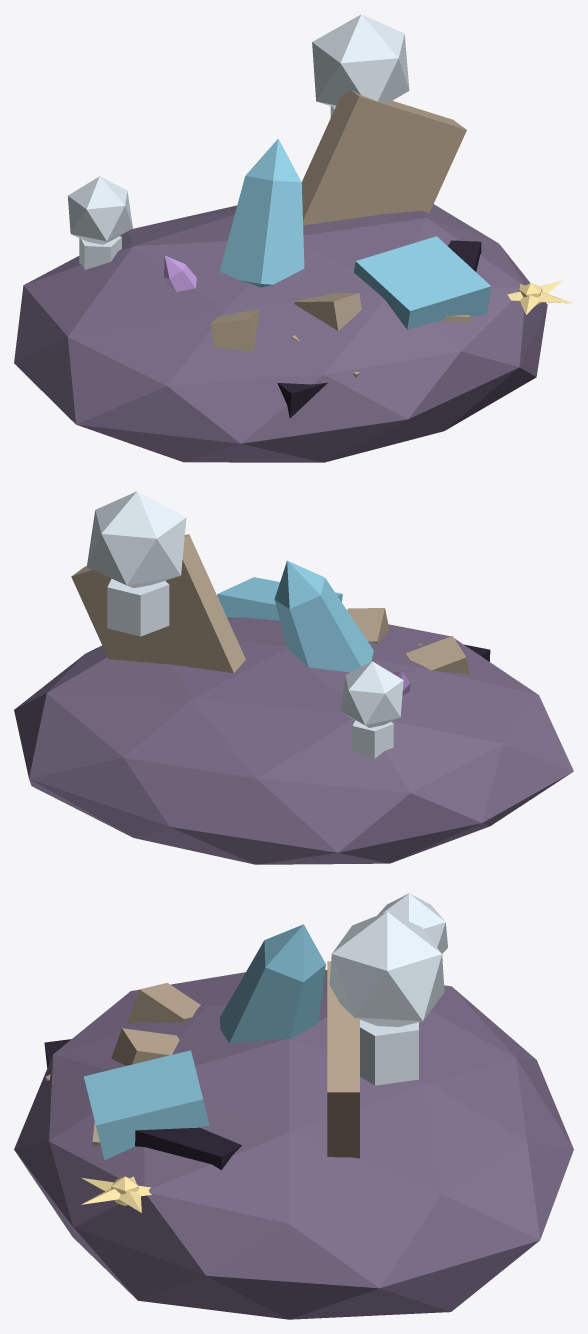
The model's file is cave-ruin.glb.
3 renders of one model, top to bottom at view 1: azimuth 30°, elevation 25°; view 2: azimuth 150°, elevation 25°; view 3: azimuth 270°, elevation 25°, orthographic. The views are drawn at different scales.
Visible parts, largest first — view 1: cave-ruin; view 2: cave-ruin; view 3: cave-ruin.
Boxes of the visible parts, x1,y1,x2,y2 form: cave-ruin: (14,14,573,462); cave-ruin: (14,491,573,864); cave-ruin: (14,893,573,1319).
Size of the model in its own units: 1.23 by 0.7194 by 1.02.
